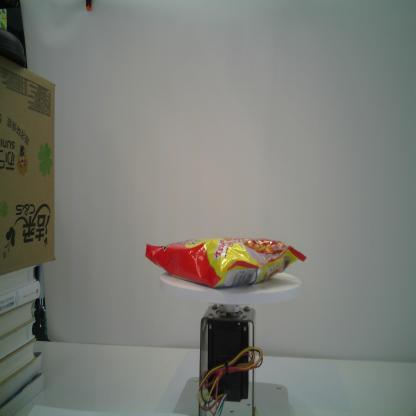Instant Noodles: (142, 236, 308, 290)
